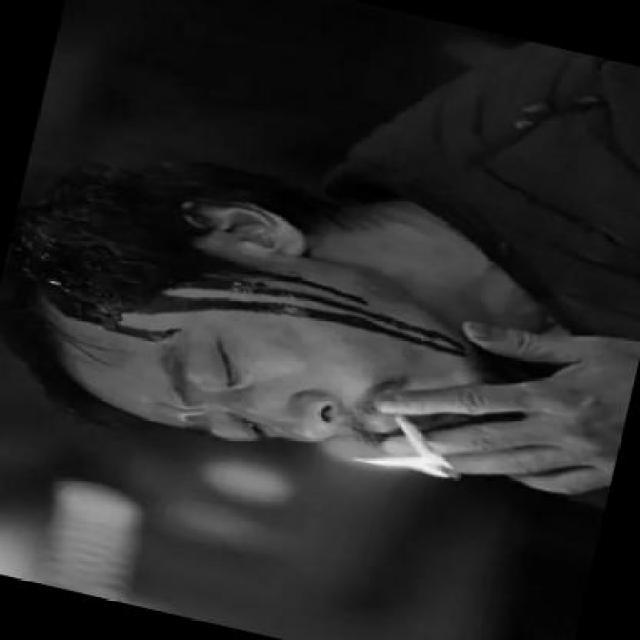cigarette: (380, 404, 462, 470)
